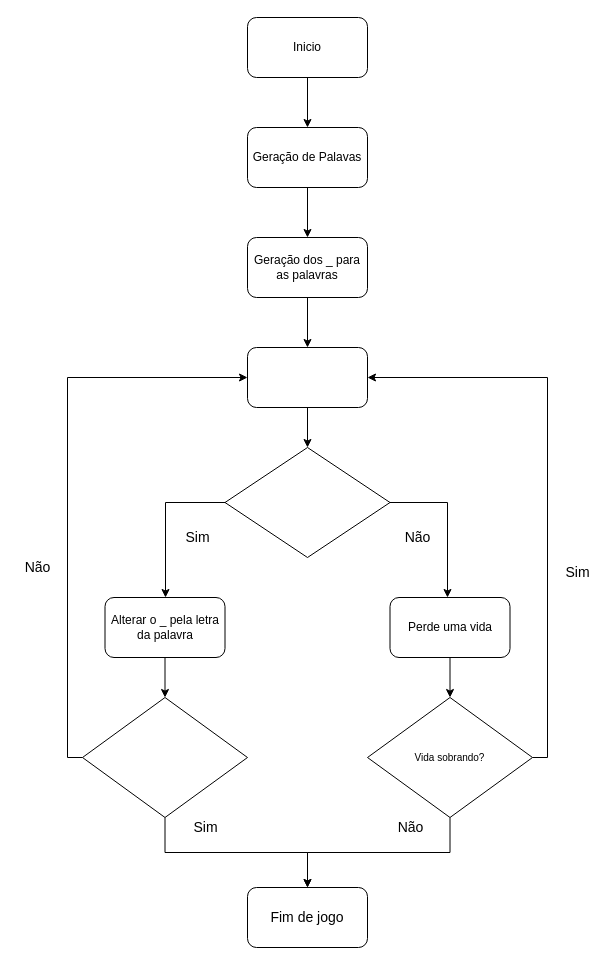
Image size: 614x965. Some labels were removed from this diagram. The centre of each missing label's shape, as x and y in pixels:
O usuarios digitou a palavra correspondete?: the point at 307,502
Pergunta da palavra para o usuario: the point at 307,377
Todos _ foram preenchidos?: the point at 165,757
